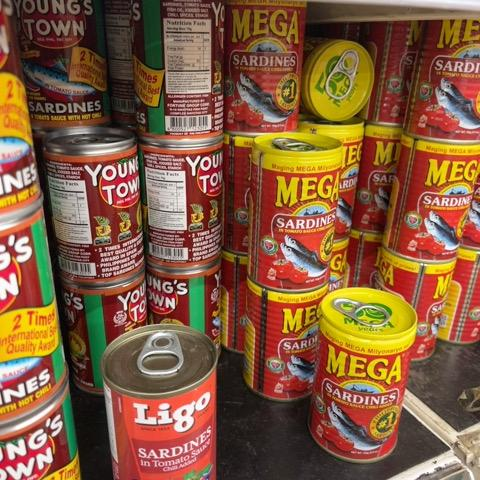canned-goods: (304, 285, 421, 469), (97, 321, 221, 480), (40, 128, 149, 287), (247, 132, 345, 291), (127, 0, 225, 142), (11, 0, 116, 132), (55, 265, 152, 397), (386, 129, 480, 264), (240, 273, 332, 403), (135, 129, 225, 261), (375, 235, 460, 370), (402, 7, 480, 146), (225, 0, 303, 136), (295, 117, 367, 240), (145, 259, 225, 362), (305, 32, 375, 123)
